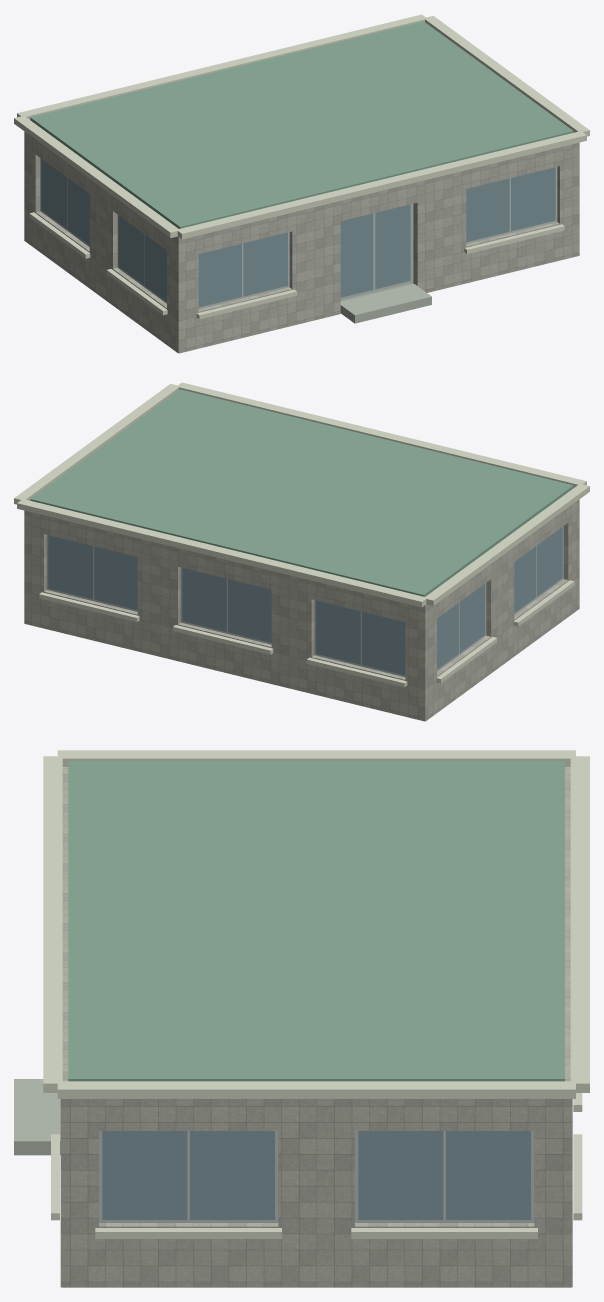
The picture shows the model from 3 angles, top to bottom: view 1: azimuth 30°, elevation 25°; view 2: azimuth 150°, elevation 25°; view 3: azimuth 270°, elevation 25°; orthographic projection. The views are drawn at different scales.
Parts seen in each view (by area): view 1: store__roof, store__wall, store__glass, store__trim, store__frame, store__threshold; view 2: store__roof, store__wall, store__glass, store__trim, store__frame; view 3: store__roof, store__wall, store__trim, store__glass, store__threshold, store__frame.
Boxes of the visible parts, left/top/right/bottom form: store__roof: left=30, top=21, right=573, bottom=228; store__wall: left=24, top=131, right=579, bottom=353; store__glass: left=41, top=159, right=555, bottom=307; store__trim: left=14, top=14, right=589, bottom=319; store__frame: left=40, top=158, right=557, bottom=308; store__threshold: left=340, top=284, right=431, bottom=323; store__roof: left=30, top=389, right=573, bottom=596; store__wall: left=24, top=499, right=579, bottom=721; store__glass: left=48, top=527, right=562, bottom=675; store__trim: left=14, top=382, right=589, bottom=687; store__frame: left=46, top=526, right=563, bottom=676; store__roof: left=68, top=761, right=564, bottom=1081; store__wall: left=60, top=768, right=572, bottom=1287; store__trim: left=43, top=750, right=589, bottom=1238; store__glass: left=102, top=1131, right=530, bottom=1219; store__threshold: left=14, top=1079, right=60, bottom=1155; store__frame: left=99, top=1131, right=534, bottom=1222.
Size of the model in its own units: 12.54 by 3.56 by 9.
7 materials, 1 textured.
